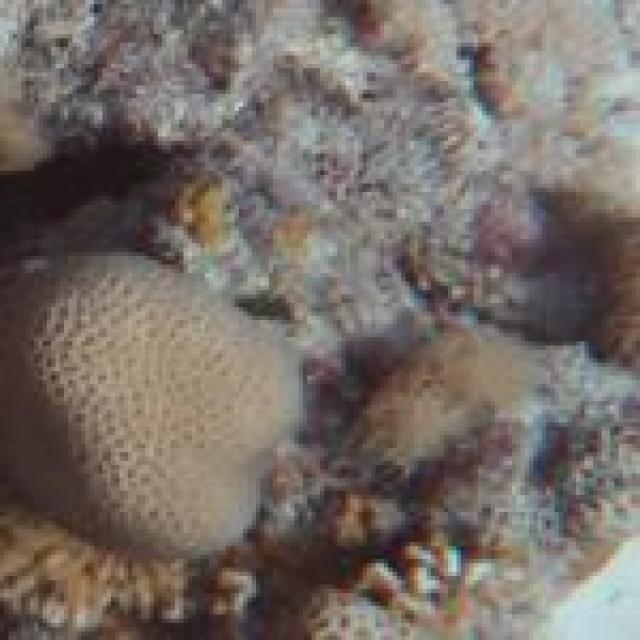Healthy Coral: (0, 236, 312, 558)
